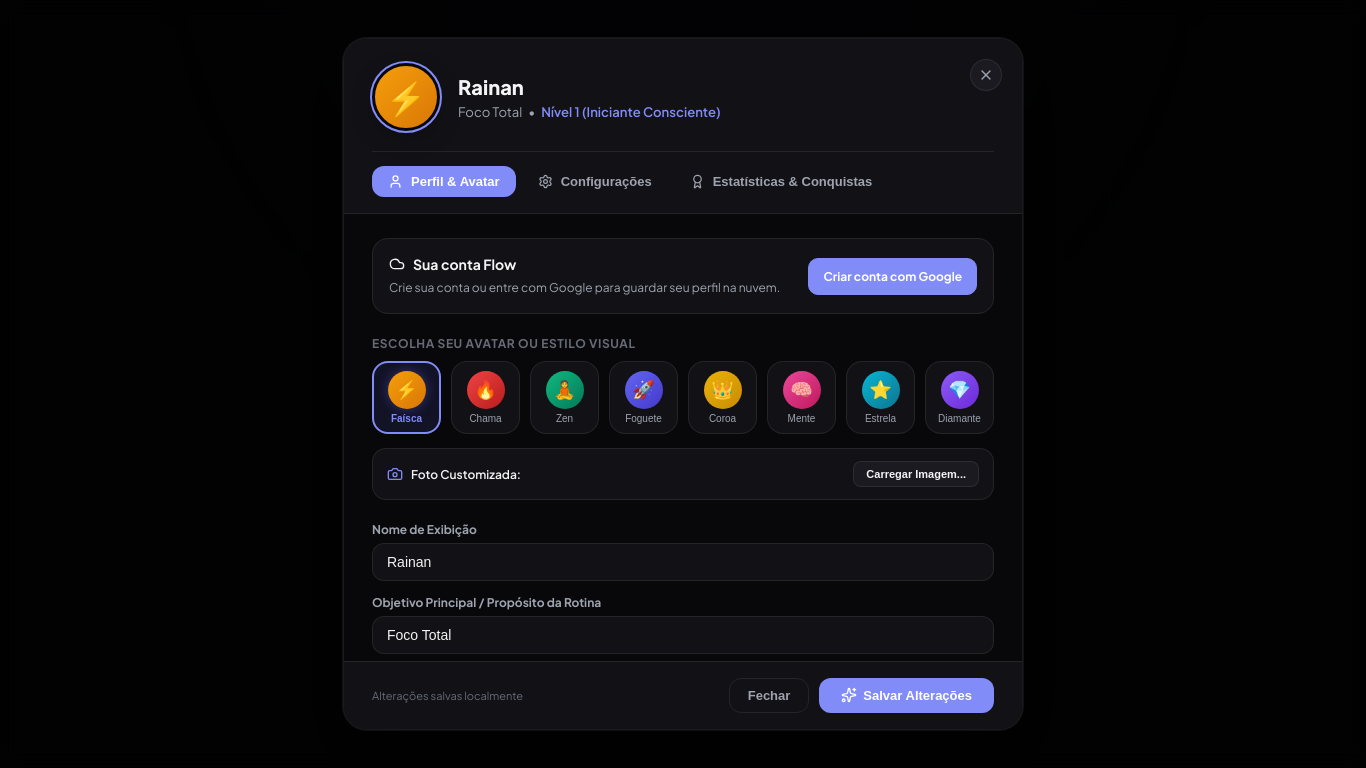
it: UserProfileModal Component › deve permitir alternar para a aba de Estatísticas & Conquistas e exibir métricas
The width and height of the screenshot is (1366, 768).
What coordinates should you click on to do the following:
click the button with test id "tab-stats-btn"
I would click on:
 (781, 182)
Its box is [674, 166, 888, 197].
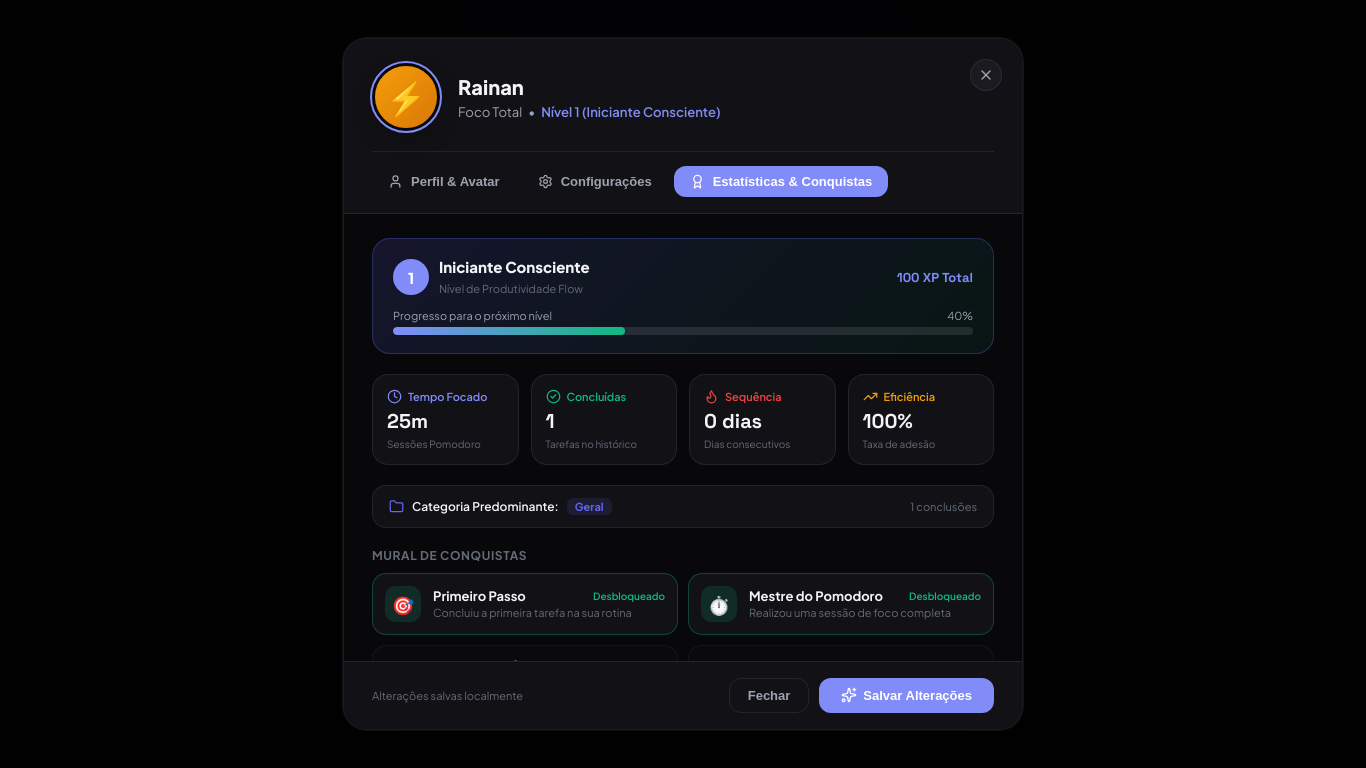
Now the text "Nível de Produtividade Flow" is shown, box [439, 282, 583, 295]
Now the text "Tempo Focado" is shown, box [408, 390, 487, 403]
Now the text "Concluídas" is shown, box [566, 390, 626, 403]
